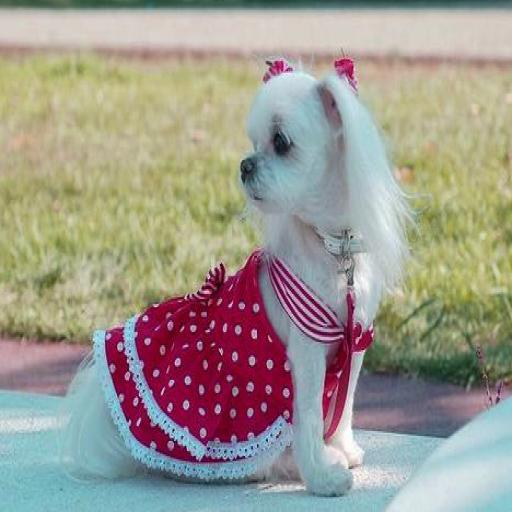dog_face: (239, 57, 396, 245)
